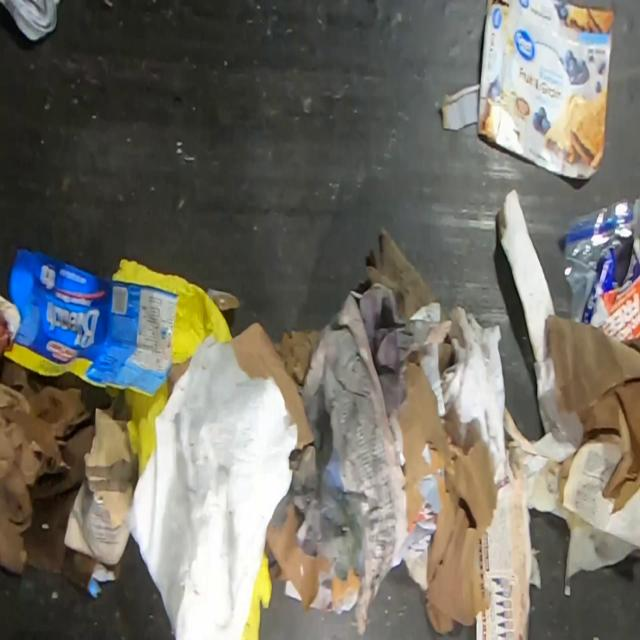cardboard: (440, 0, 616, 179), (0, 355, 122, 599), (474, 406, 577, 640), (63, 405, 138, 566), (230, 321, 315, 449), (265, 502, 333, 614)
rigid_plastic: (0, 0, 60, 41)
soft_plastic: (110, 257, 233, 365), (562, 195, 634, 322), (123, 377, 174, 480), (241, 553, 272, 640)
